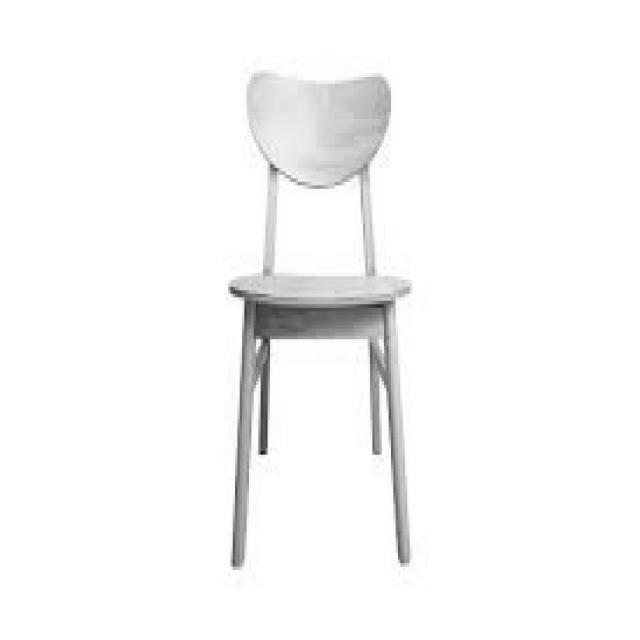chair: (225, 66, 418, 582)
